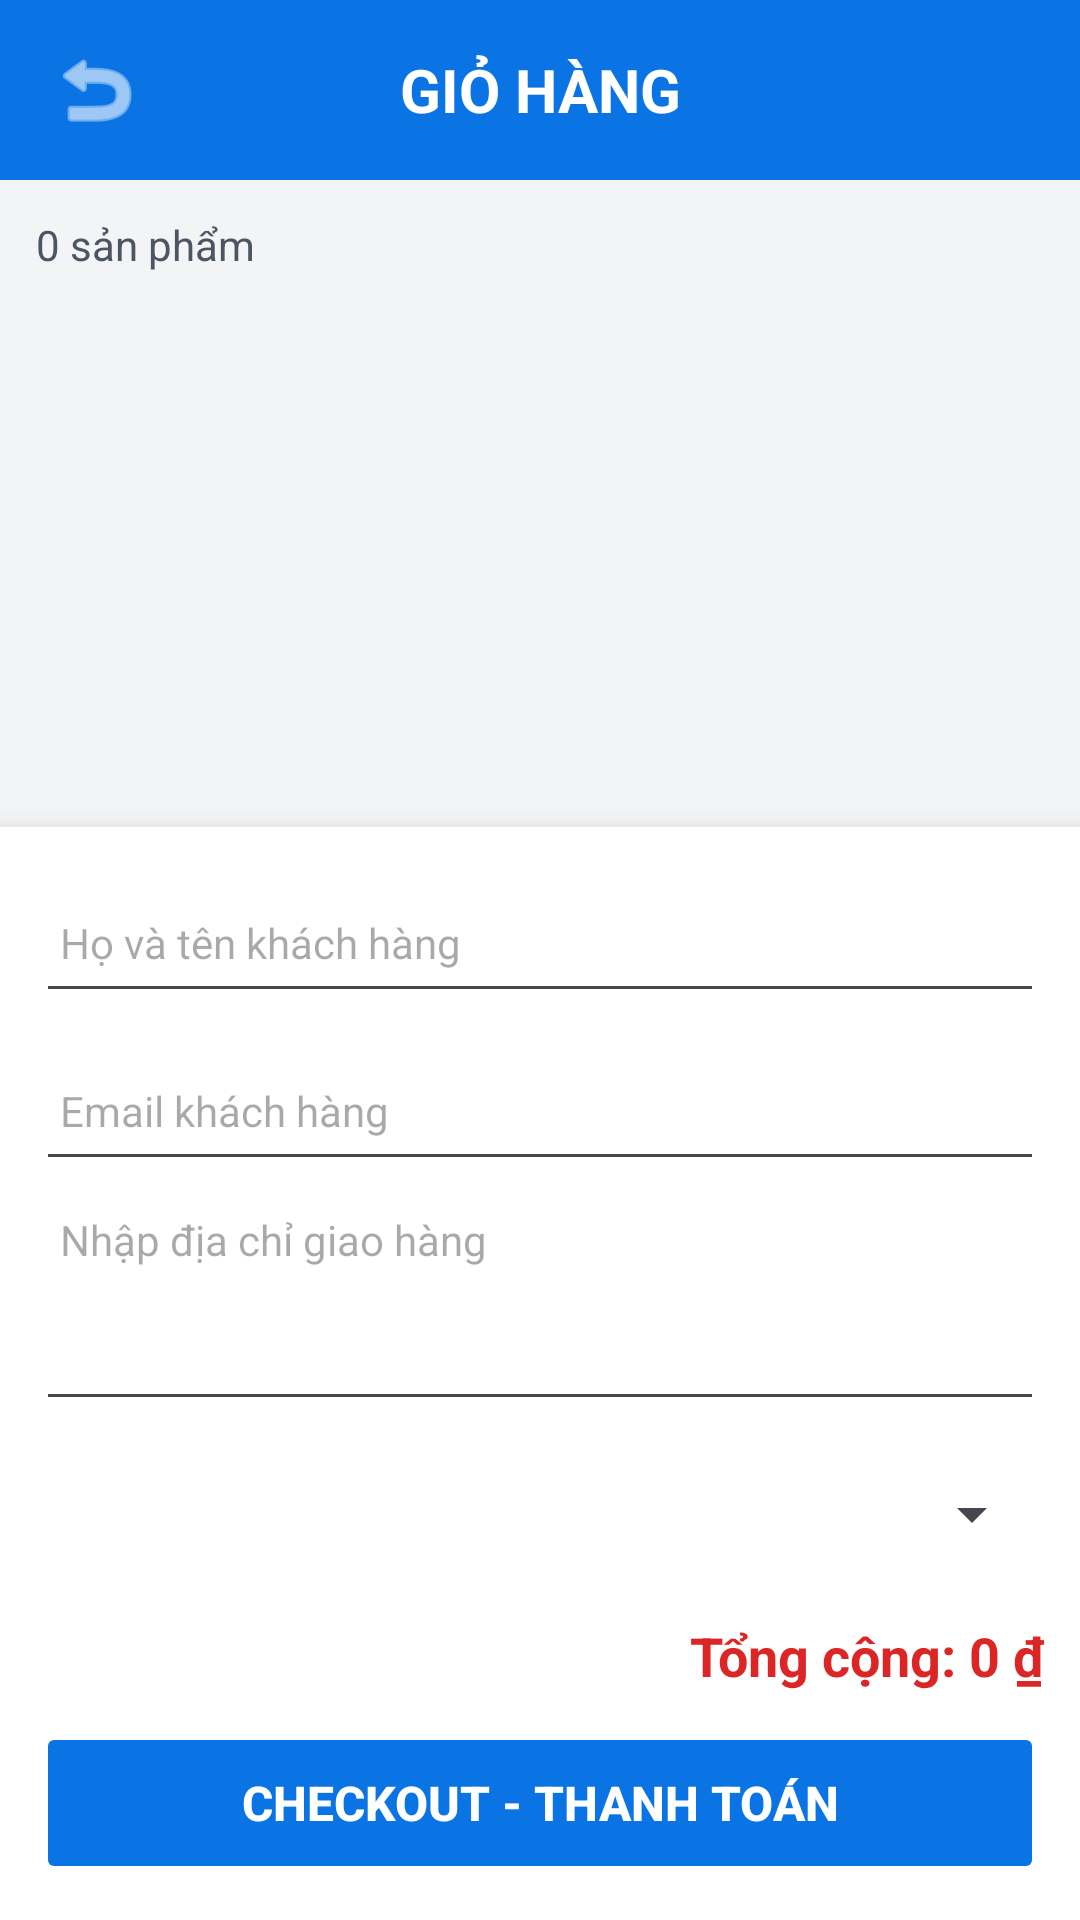

Icon click points for this 1080×1920 phone screenshot, format (x=x, y=y):
Quay lại: (x=97, y=90)
